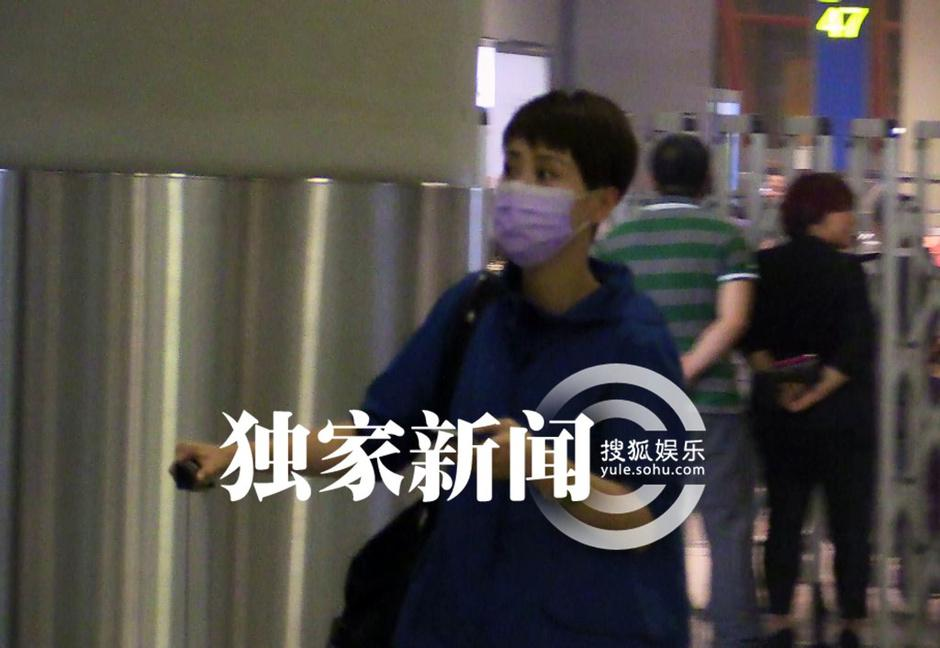OK: (490, 147, 602, 259)
